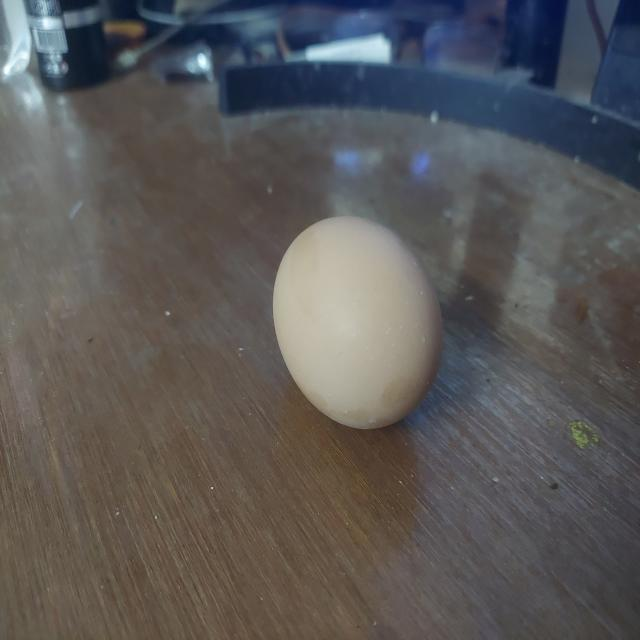Egg: (266, 202, 452, 440)
